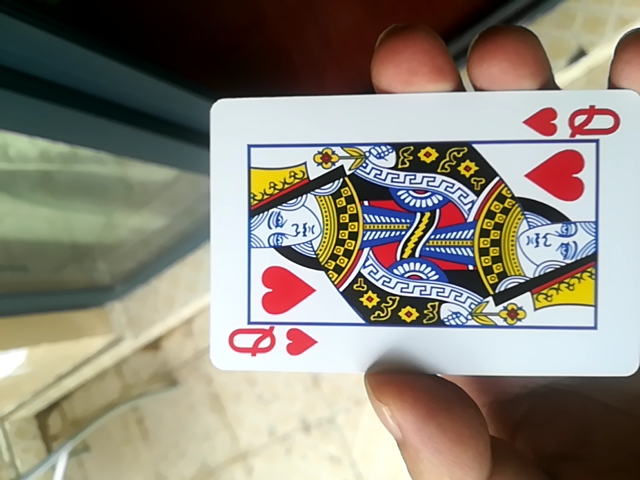hx q: (204, 84, 632, 382)
